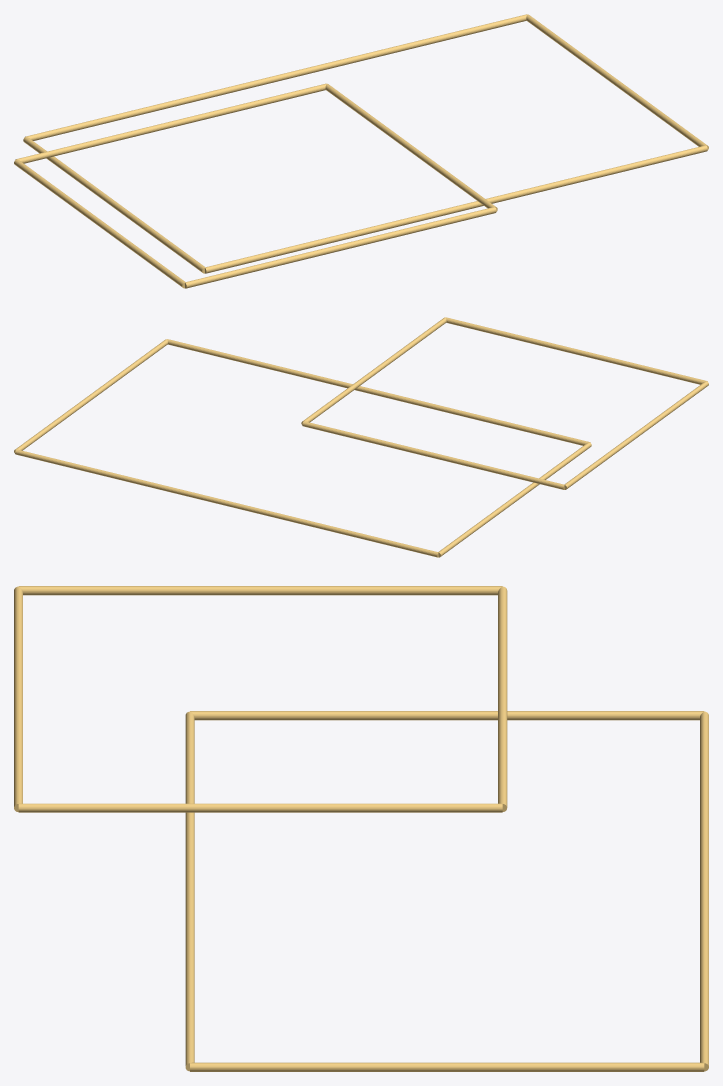
The model's file is station-regions.review.glb.
3 views of the same model, one above another, from view 1: azimuth 30°, elevation 25°; view 2: azimuth 150°, elevation 25°; view 3: azimuth 270°, elevation 25° (orthographic). The views are drawn at different scales.
Visible parts, largest first — view 1: carina_level_0, carina_level_2, azygos_lower_level_2, azygos_lower_level_0, carina_level_1, carina_level_3, azygos_lower_level_3, azygos_lower_level_1; view 2: carina_level_0, carina_level_2, azygos_lower_level_0, azygos_lower_level_2, carina_level_1, carina_level_3, azygos_lower_level_3, azygos_lower_level_1; view 3: carina_level_1, carina_level_3, azygos_lower_level_1, azygos_lower_level_3, carina_level_2, carina_level_0, azygos_lower_level_0, azygos_lower_level_2.
Boxes of the visible parts, <box> form: carina_level_0: <box>25,14,527,140</box>; carina_level_2: <box>205,145,707,273</box>; azygos_lower_level_2: <box>185,207,496,288</box>; azygos_lower_level_0: <box>15,83,326,163</box>; carina_level_1: <box>526,14,708,149</box>; carina_level_3: <box>23,137,205,273</box>; azygos_lower_level_3: <box>14,159,185,288</box>; azygos_lower_level_1: <box>325,83,497,211</box>; carina_level_0: <box>15,449,438,557</box>; carina_level_2: <box>167,339,590,445</box>; azygos_lower_level_0: <box>302,421,564,489</box>; azygos_lower_level_2: <box>445,317,707,384</box>; carina_level_1: <box>14,339,167,452</box>; carina_level_3: <box>438,442,591,557</box>; azygos_lower_level_3: <box>564,381,708,489</box>; azygos_lower_level_1: <box>301,317,446,424</box>; carina_level_1: <box>190,1062,704,1071</box>; carina_level_3: <box>190,711,704,720</box>; azygos_lower_level_1: <box>18,803,502,812</box>; azygos_lower_level_3: <box>18,586,502,595</box>; carina_level_2: <box>185,711,194,1071</box>; carina_level_0: <box>700,711,708,1071</box>; azygos_lower_level_0: <box>498,586,507,811</box>; azygos_lower_level_2: <box>14,586,22,811</box>.
Bounding box in the file's own units: 0.0643 × 0.00565 × 0.0459.
